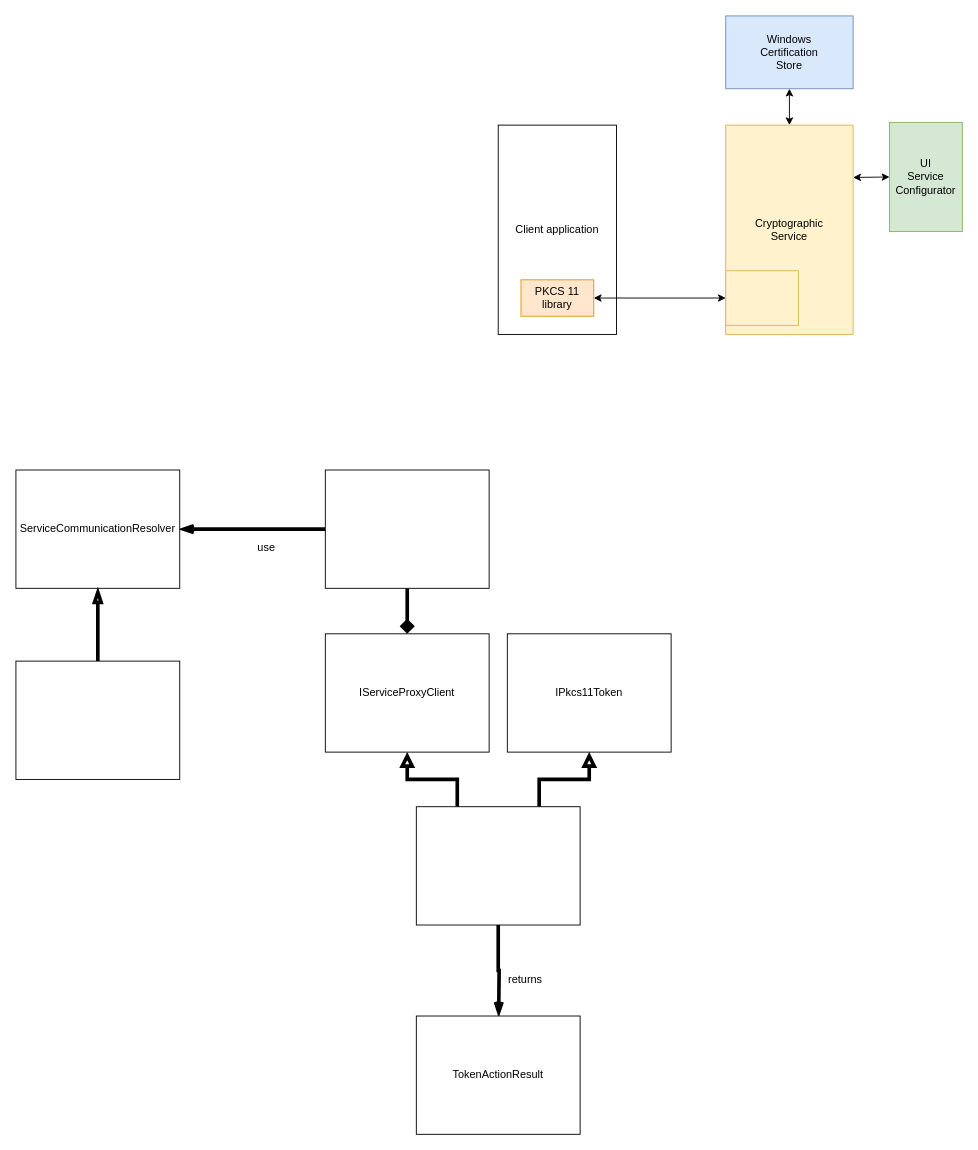
The diagram is 978 pixels wide and 1150 high, and some of its shapes have lost their labels. The shapes that lost their labels are listed below. From the top down, each one's box as (x1, y1, x2, y2) in pixels, then its label:
(725, 270, 799, 325): Serializer/ Deserializer
(324, 469, 489, 588): ServiceProxy
(15, 660, 180, 779): PipeCommunicationResolver
(415, 806, 580, 925): VirtualToken
